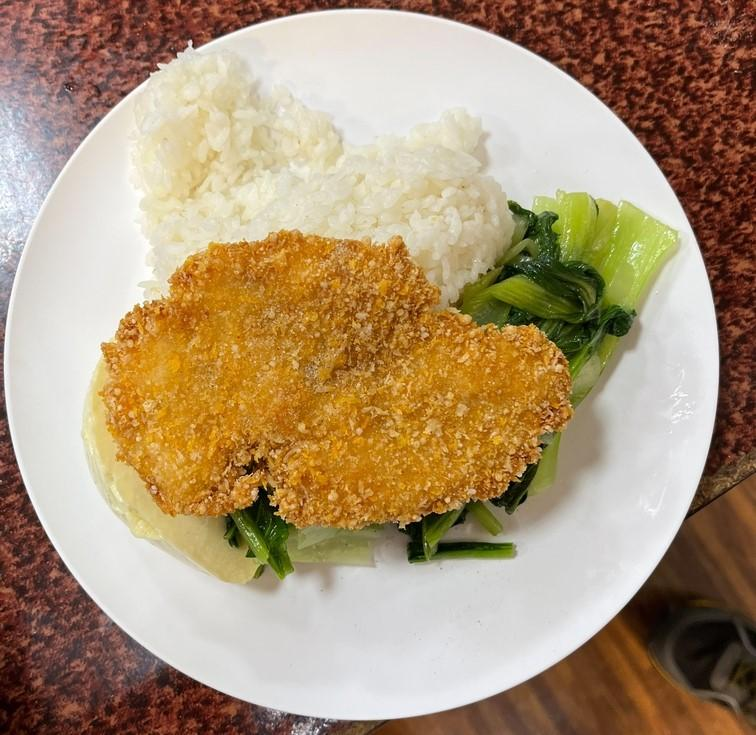big fried chicken leg: (9, 9, 736, 728)
big herbal chicken leg: (127, 49, 512, 306)
braised fish fillet: (235, 447, 567, 578), (80, 350, 265, 582), (464, 199, 677, 335)
braised pork: (102, 227, 578, 527)
